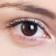eye: (22, 24, 38, 36)
